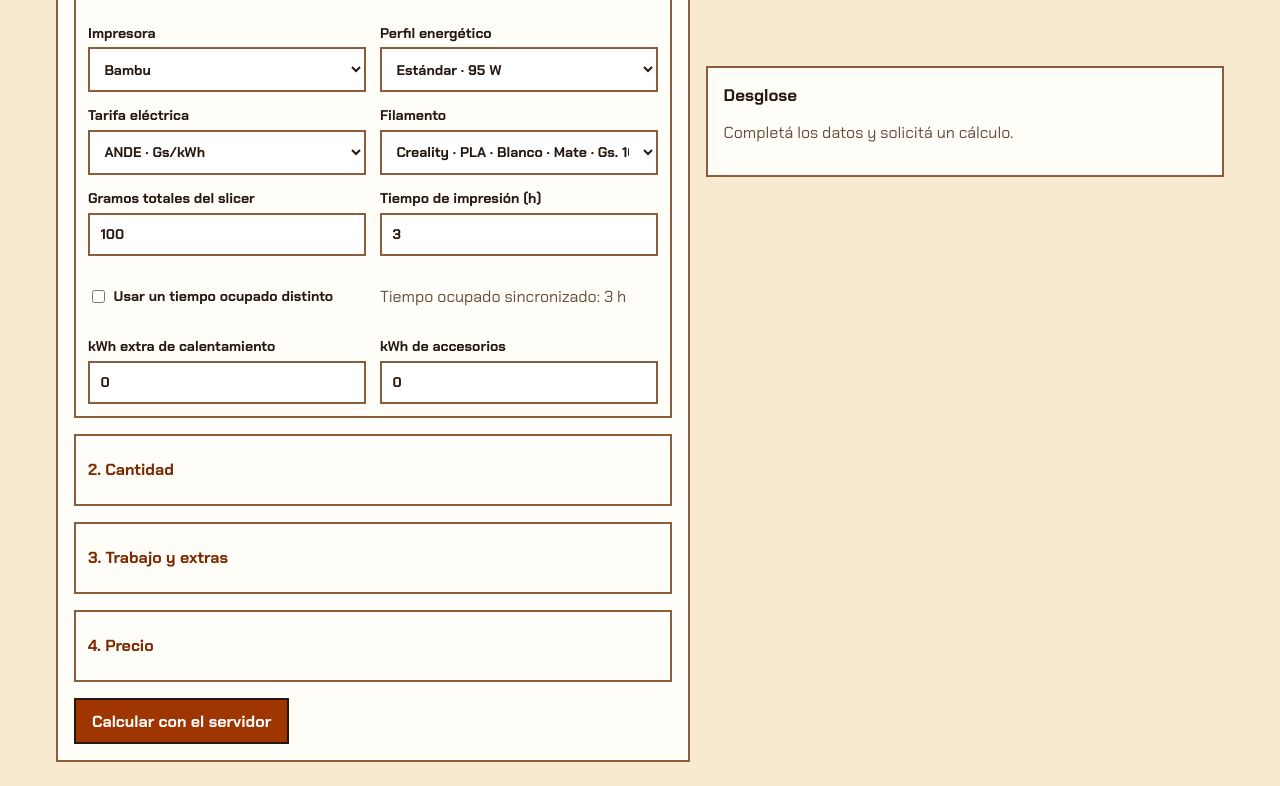
Test: precio avanzado vigente › ignora una respuesta pendiente después de editar y una respuesta fuera de orden
(page scrolled)
Click the button "Calcular con el servidor". click: click(182, 721)
box: x1=74 y1=698 x2=289 y2=744
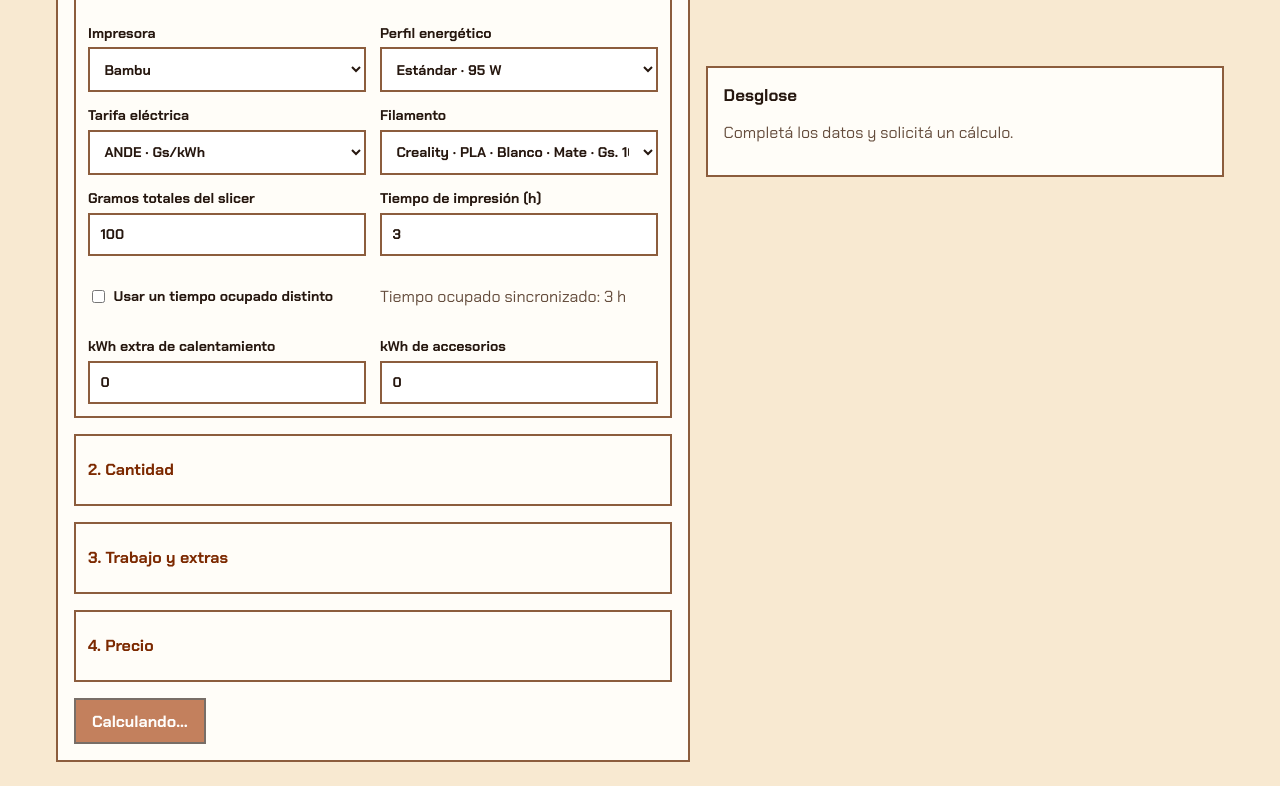
Replace the text in the number field labelled "Gramos totales del slicer" with "200". click: (227, 234)
box: x1=88 y1=213 x2=366 y2=256
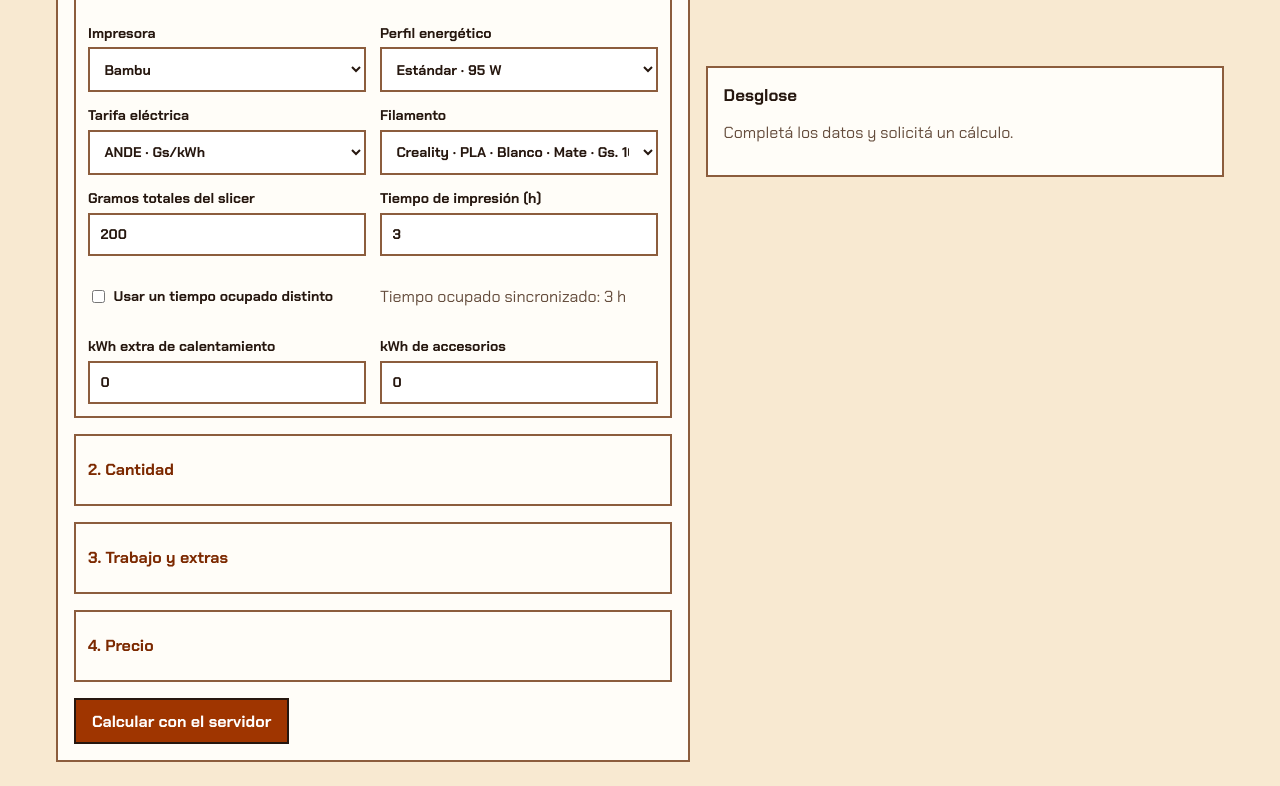
Now the button "Calcular con el servidor" is enabled
Click the button "Calcular con el servidor". click: click(182, 721)
box: x1=74 y1=698 x2=289 y2=744
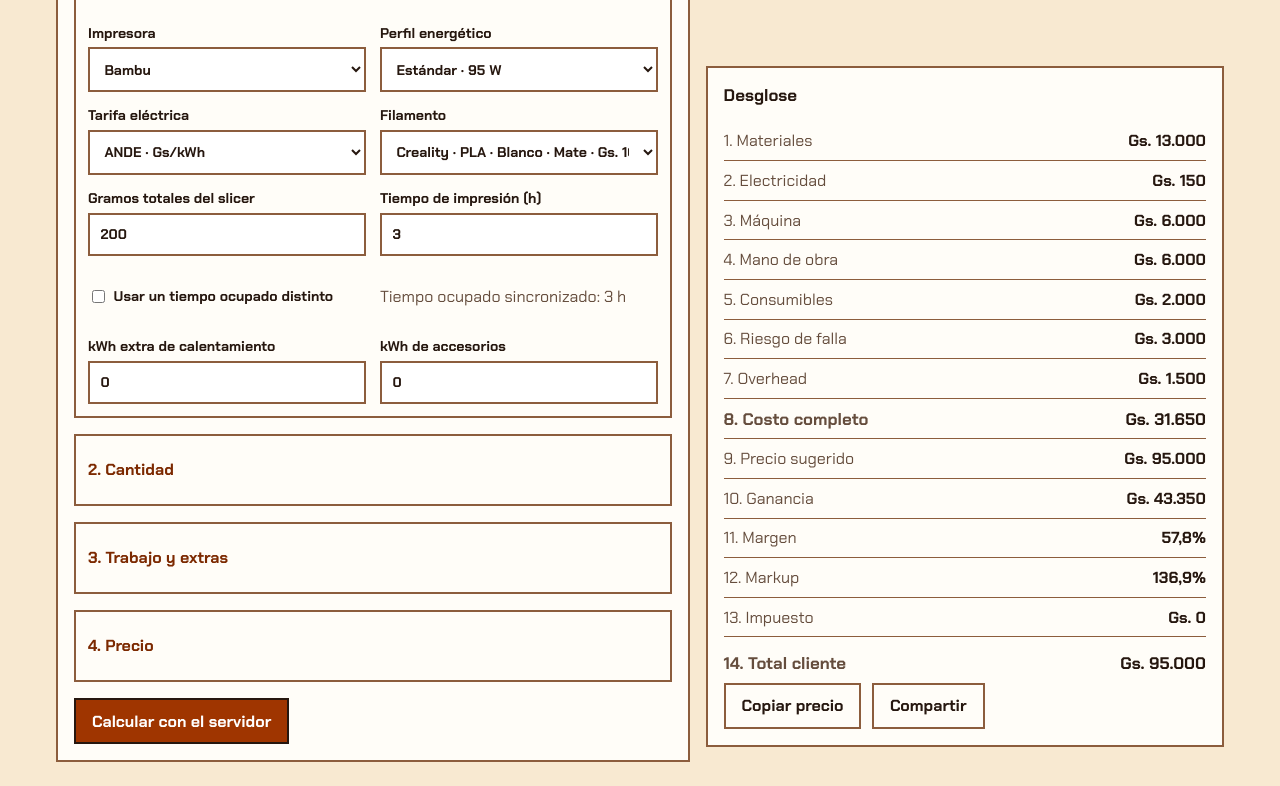
Now the text "Gs. 95.000" in the row of "9. Precio sugerido" is shown, box x1=1124 y1=448 x2=1206 y2=470
